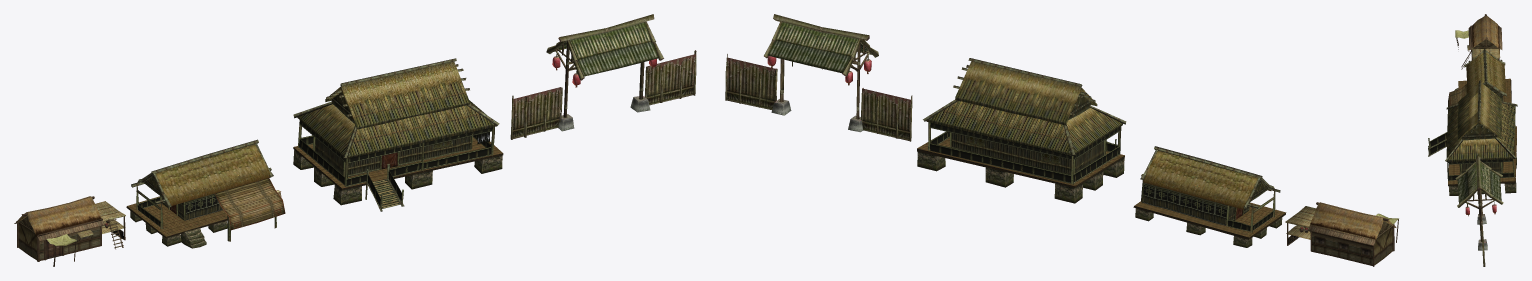
The model's file is strawhouse.obj.
3 views of the same model, side by side, from view 1: azimuth 30°, elevation 25°; view 2: azimuth 150°, elevation 25°; view 3: azimuth 270°, elevation 25° (orthographic). The views are drawn at different scales.
Parts seen in each view (by area): view 1: DrawCall_0137, DrawCall_0187, DrawCall_0184, DrawCall_0186, DrawCall_0188, DrawCall_0185, DrawCall_0181, DrawCall_0189, DrawCall_0144, DrawCall_0140, DrawCall_0139, DrawCall_0138 (+2 smaller); view 2: DrawCall_0137, DrawCall_0187, DrawCall_0184, DrawCall_0186, DrawCall_0185, DrawCall_0188, DrawCall_0144, DrawCall_0189, DrawCall_0151, DrawCall_0140, DrawCall_0139, DrawCall_0141 (+1 smaller); view 3: DrawCall_0137, DrawCall_0187, DrawCall_0186, DrawCall_0184, DrawCall_0188, DrawCall_0140, DrawCall_0138, DrawCall_0189, DrawCall_0141, DrawCall_0181, DrawCall_0139, DrawCall_0144.
Part boxes in pixels (x1,y1,x2,y2): DrawCall_0137: [297, 62, 496, 158]; DrawCall_0187: [510, 14, 696, 139]; DrawCall_0184: [293, 120, 503, 208]; DrawCall_0186: [155, 144, 270, 205]; DrawCall_0188: [14, 196, 125, 266]; DrawCall_0185: [126, 186, 276, 248]; DrawCall_0181: [214, 178, 285, 230]; DrawCall_0189: [18, 201, 125, 260]; DrawCall_0144: [315, 136, 471, 176]; DrawCall_0140: [293, 58, 499, 211]; DrawCall_0139: [127, 196, 227, 236]; DrawCall_0138: [294, 137, 502, 188]; DrawCall_0137: [926, 61, 1122, 155]; DrawCall_0187: [725, 14, 912, 141]; DrawCall_0184: [917, 122, 1124, 203]; DrawCall_0186: [1143, 150, 1271, 209]; DrawCall_0185: [1133, 180, 1285, 247]; DrawCall_0188: [1287, 202, 1398, 266]; DrawCall_0144: [952, 133, 1104, 174]; DrawCall_0189: [1285, 206, 1398, 265]; DrawCall_0151: [1312, 231, 1372, 265]; DrawCall_0140: [923, 58, 1126, 156]; DrawCall_0139: [1134, 201, 1285, 237]; DrawCall_0141: [1140, 146, 1280, 208]; DrawCall_0137: [1446, 82, 1515, 161]; DrawCall_0187: [1455, 155, 1503, 266]; DrawCall_0186: [1466, 52, 1505, 93]; DrawCall_0184: [1429, 125, 1516, 195]; DrawCall_0188: [1456, 14, 1502, 69]; DrawCall_0140: [1428, 80, 1517, 161]; DrawCall_0138: [1448, 126, 1516, 184]; DrawCall_0189: [1455, 30, 1500, 59]; DrawCall_0141: [1464, 49, 1506, 96]; DrawCall_0181: [1448, 84, 1466, 106]; DrawCall_0139: [1458, 78, 1511, 103]; DrawCall_0144: [1460, 162, 1503, 174].
Bounding box in the file's own units: 7.18 × 1.16 × 1.22.
Materials: 13 (13 with a texture image).
